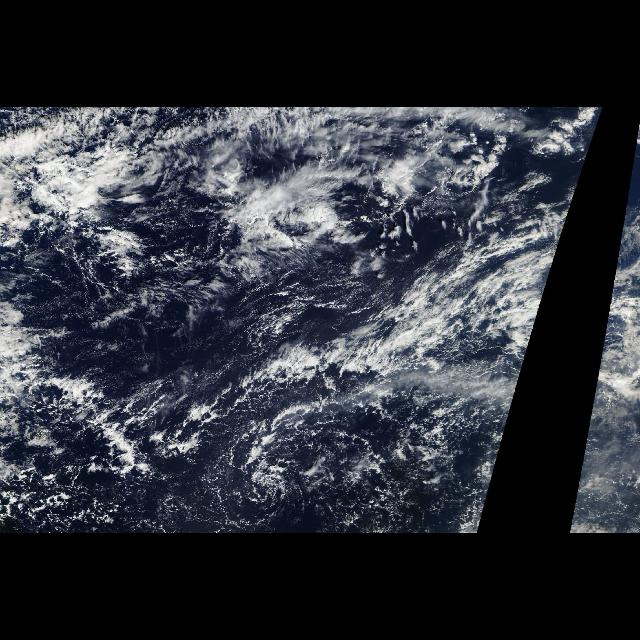Fish: (0, 108, 282, 146)
Gravel: (276, 401, 508, 533)
Sugar: (96, 281, 240, 393)
